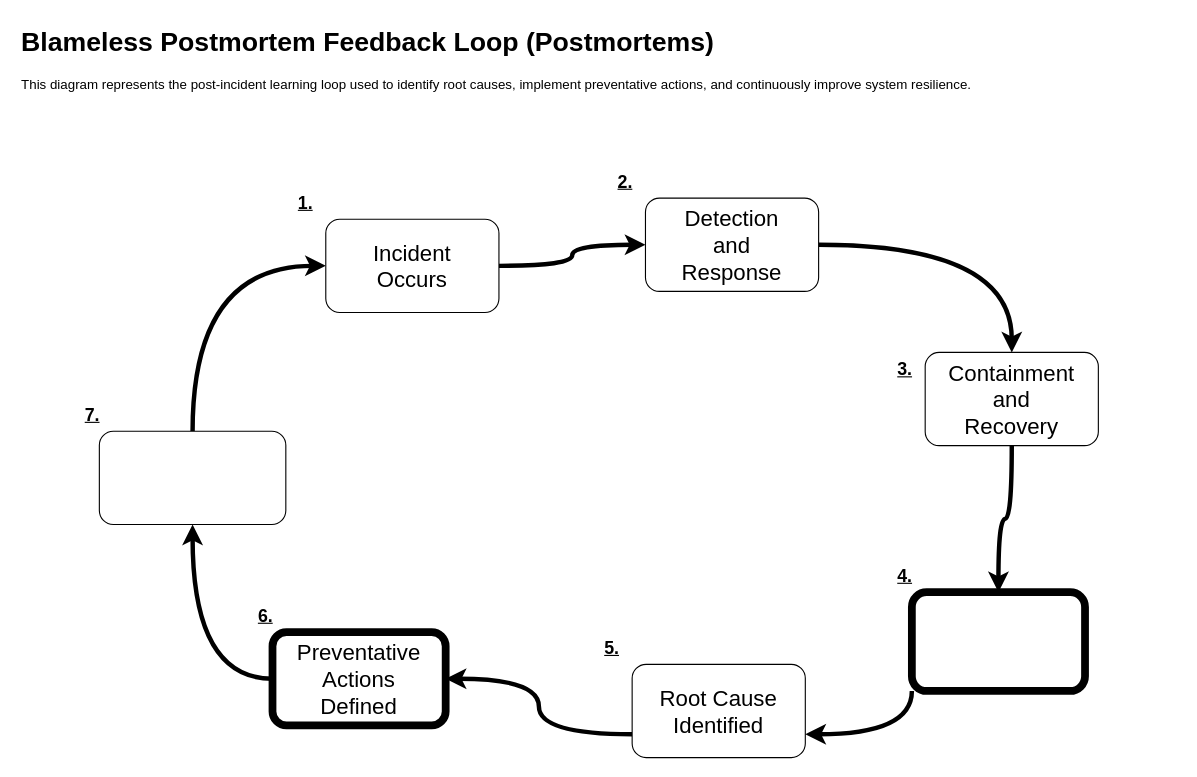
The diagram is 1197 pixels wide and 777 high, and some of its shapes have lost their labels. The shapes that lost their labels are listed below. From the top down, each one's centre as x and y in pixels, then its label:
At (x=192, y=477): "Controls and Monitoring Improved".
At (x=997, y=641): "Blameless Postmortem".
